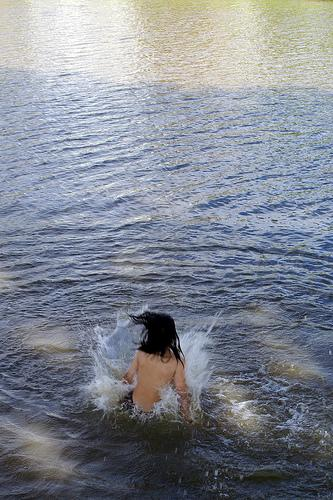human: (124, 305, 190, 415)
